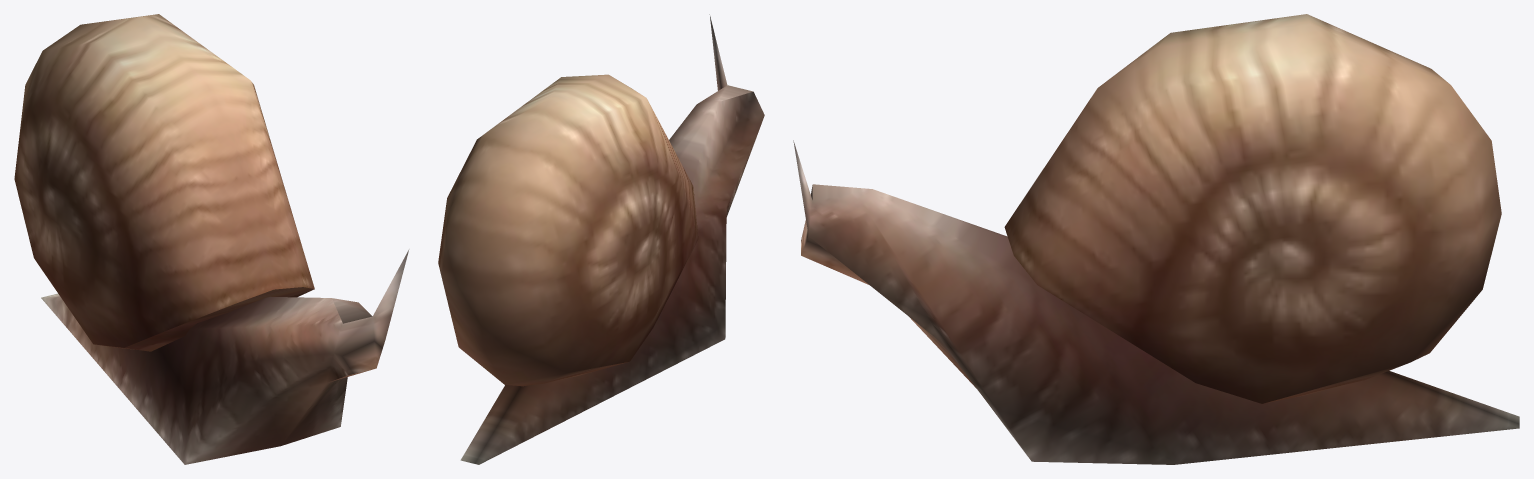
Rendered from Snail.glb.
3 renders of one model, left to right at view 1: azimuth 30°, elevation 25°; view 2: azimuth 150°, elevation 25°; view 3: azimuth 270°, elevation 25°, orthographic. The views are drawn at different scales.
Parts seen in each view (by area): view 1: Obj3d66-12346381-2-163; view 2: Obj3d66-12346381-2-163; view 3: Obj3d66-12346381-2-163.
Part boxes in pixels (x1=…): Obj3d66-12346381-2-163: x1=14, y1=14, x2=409, y2=464; Obj3d66-12346381-2-163: x1=438, y1=14, x2=764, y2=464; Obj3d66-12346381-2-163: x1=793, y1=14, x2=1519, y2=464.
Size of the model in its own units: 0.4686 by 0.7703 by 1.28.
1 material, 1 textured.
